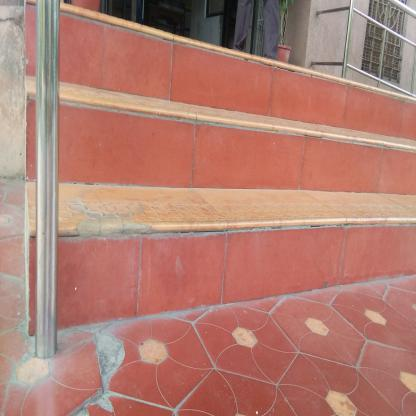stairs: (121, 36, 276, 319)
